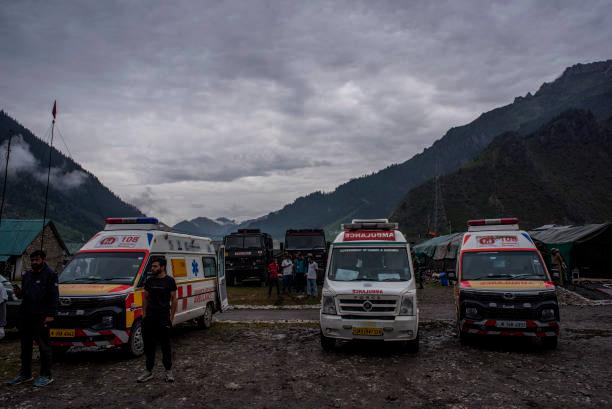ambulance: (459, 222, 566, 354), (331, 222, 422, 355), (72, 213, 173, 261)
